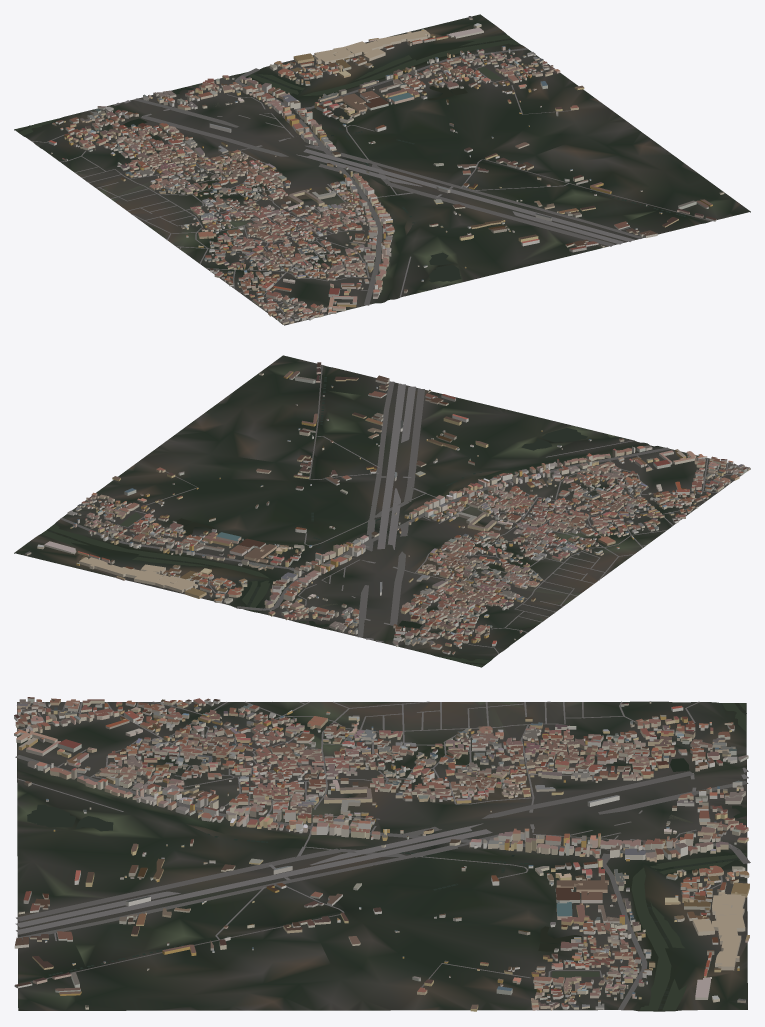
3 views of the same model, one above another, from view 1: azimuth 30°, elevation 25°; view 2: azimuth 150°, elevation 25°; view 3: azimuth 270°, elevation 25° (orthographic). The views are drawn at different scales.
Visible parts, largest first — view 1: ground, buildings, roads, water; view 2: ground, buildings, roads, water; view 3: ground, buildings, roads, water.
Boxes of the visible parts, x1=… form: ground: x1=14, y1=14, x2=750, y2=325; buildings: x1=48, y1=16, x2=724, y2=324; roads: x1=31, y1=48, x2=711, y2=323; water: x1=15, y1=24, x2=685, y2=282; ground: x1=14, y1=355, x2=750, y2=667; buildings: x1=25, y1=362, x2=750, y2=655; roads: x1=60, y1=365, x2=740, y2=653; water: x1=40, y1=377, x2=587, y2=666; ground: x1=17, y1=701, x2=747, y2=1011; buildings: x1=14, y1=697, x2=749, y2=1011; roads: x1=15, y1=701, x2=750, y2=1010; water: x1=27, y1=703, x2=747, y2=1010.
Size of the model in its own units: 1411 by 30.76 by 1416.
